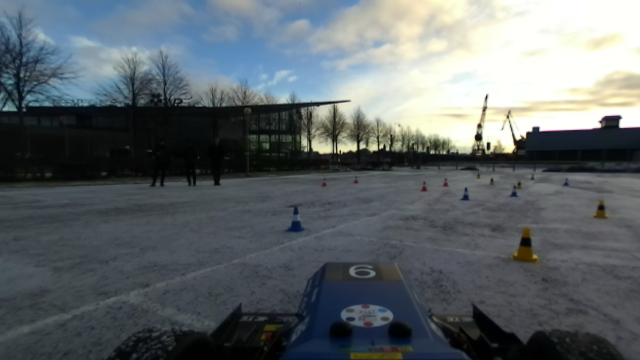blue: (281, 205, 306, 236), (458, 187, 471, 202), (507, 185, 519, 199), (559, 176, 571, 188)
orange: (441, 176, 451, 188), (350, 173, 359, 186), (318, 177, 328, 187), (419, 181, 427, 192)
yellow: (509, 226, 539, 264), (590, 199, 610, 221)
